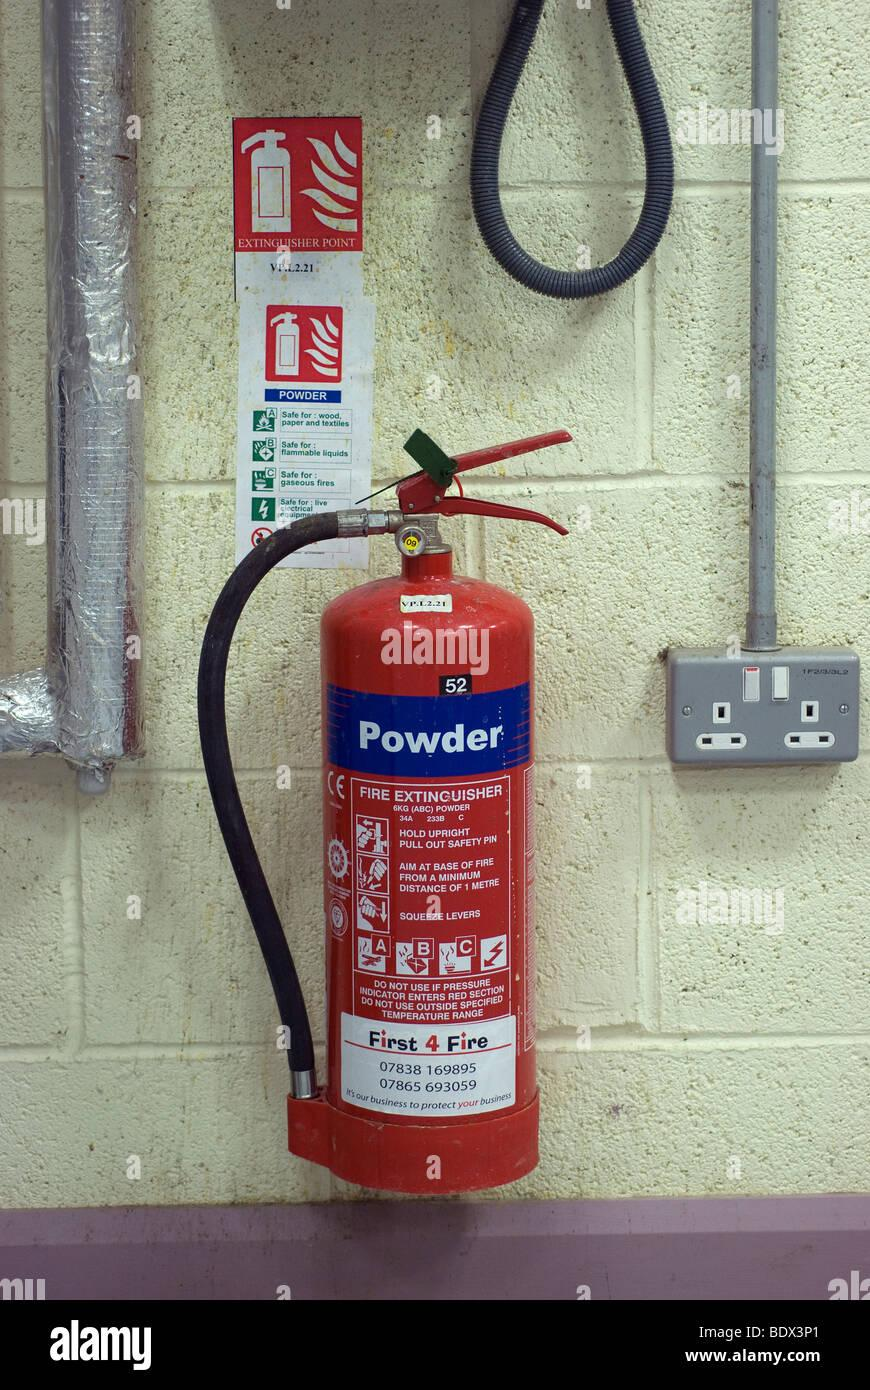wall-mounted: (158, 434, 600, 1198)
